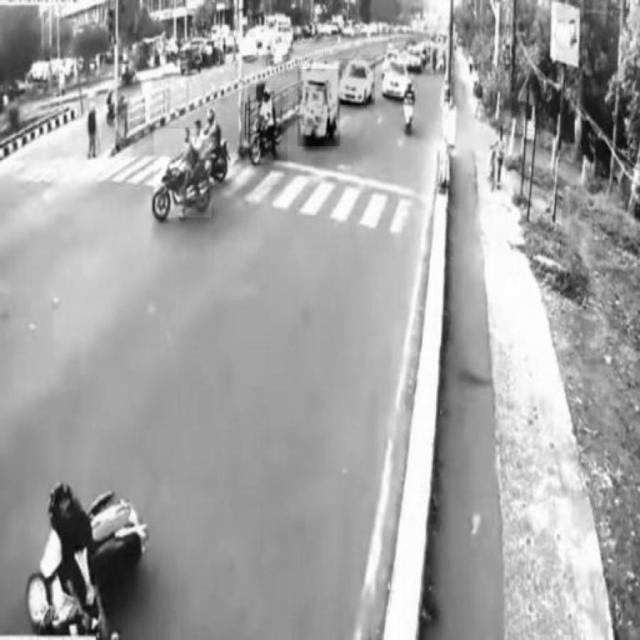vehicle: (155, 129, 212, 217), (298, 69, 340, 146), (249, 88, 287, 165), (339, 59, 375, 105)
